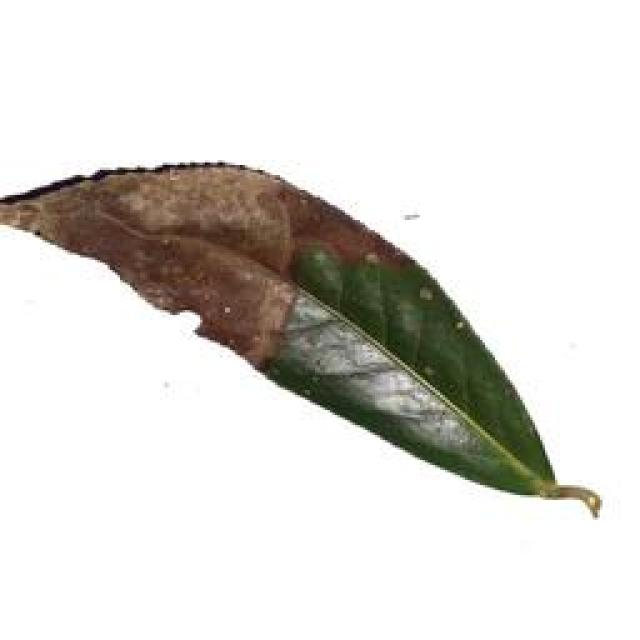Brown Blight: (0, 142, 608, 512)
